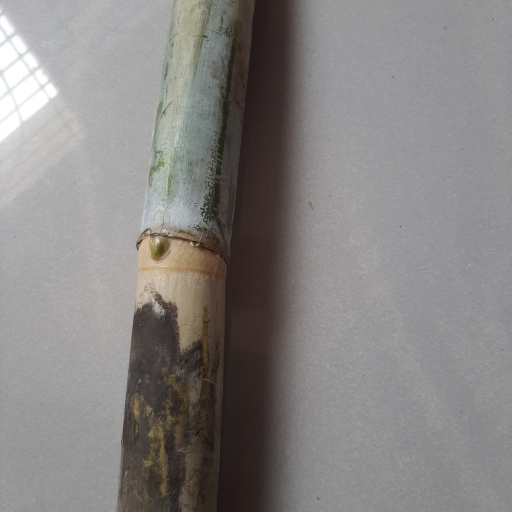Bud: (146, 232, 169, 260)
